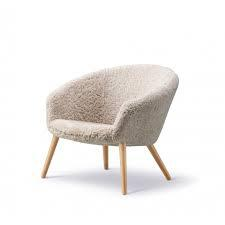chair: (26, 45, 188, 199)
